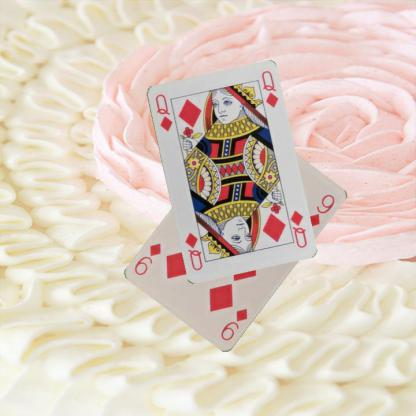9d: (218, 306, 249, 343)
Qd: (282, 206, 308, 249), (152, 92, 173, 132)
